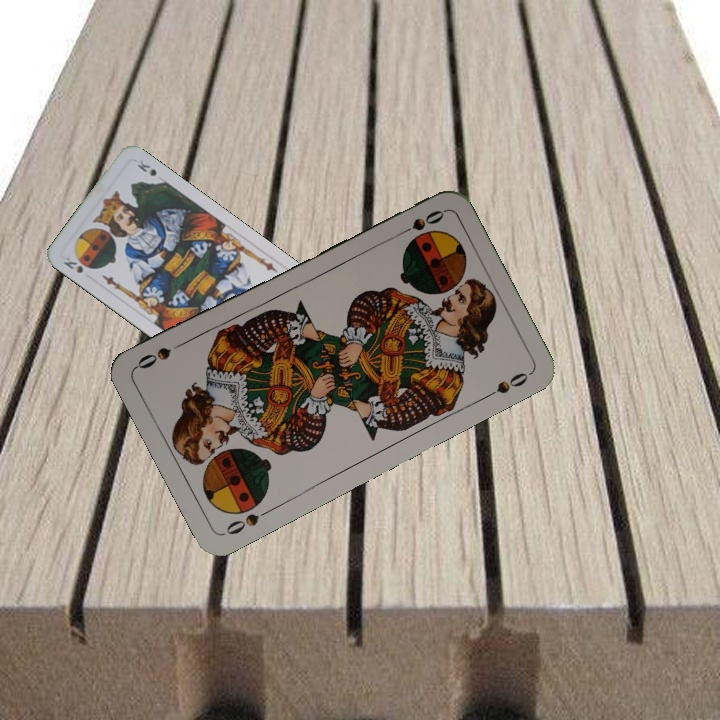SK: (59, 257, 86, 276)
SO: (391, 206, 447, 240), (220, 504, 275, 538)
